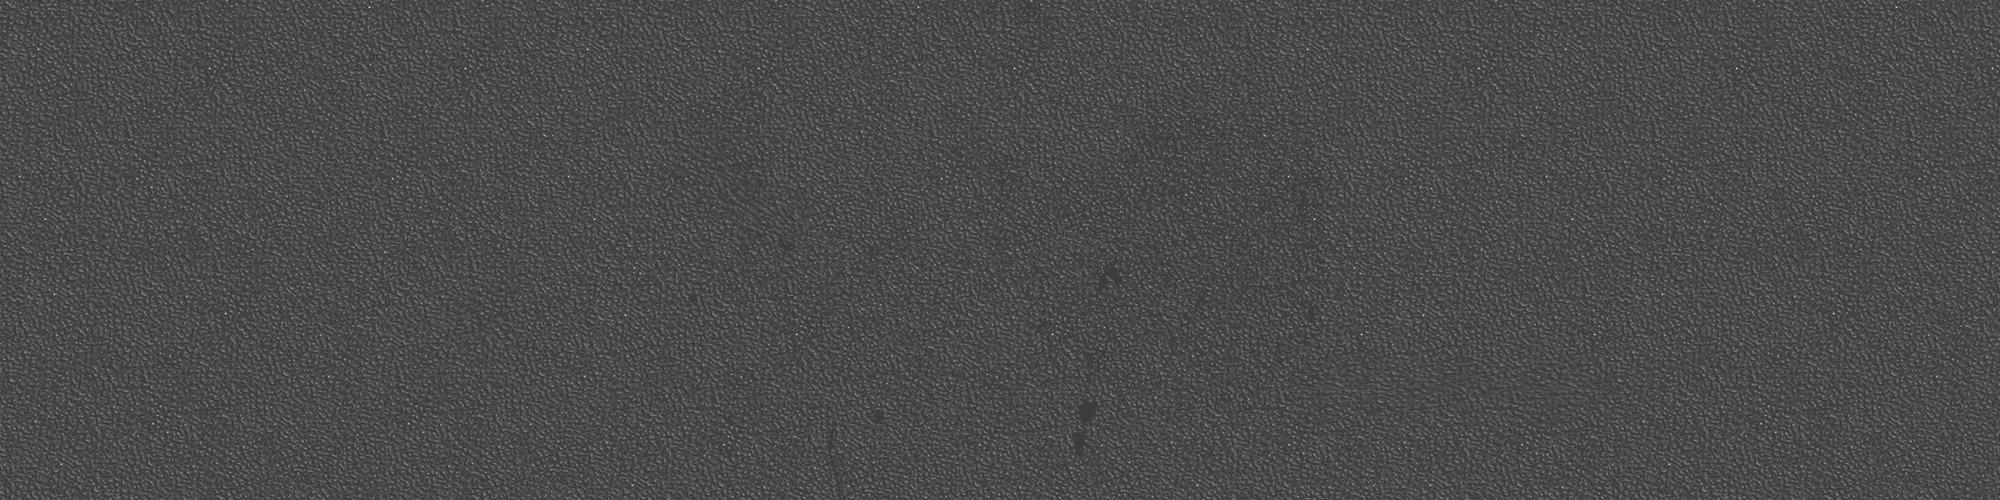Decomposed: (827, 409, 852, 497), (1059, 430, 1091, 464), (1023, 312, 1057, 344), (1071, 395, 1103, 427), (1094, 261, 1128, 290), (679, 284, 708, 307), (772, 236, 800, 256), (1300, 306, 1327, 325), (872, 402, 894, 423), (1080, 339, 1094, 369)
